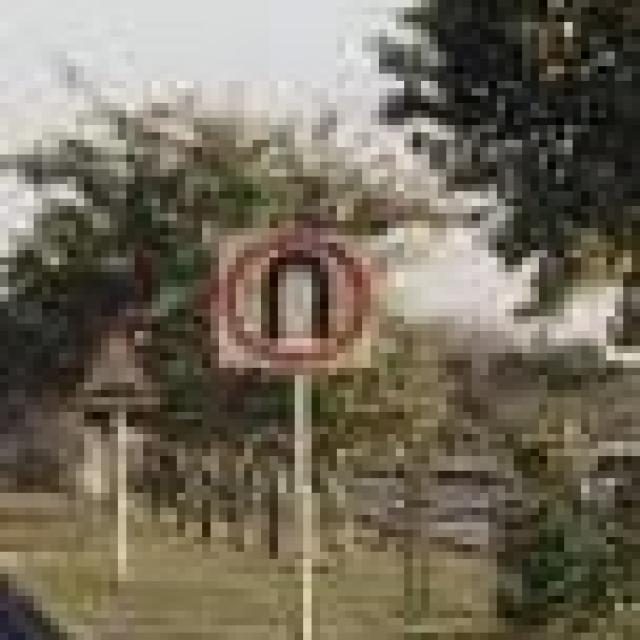u turn: (209, 220, 386, 378)
